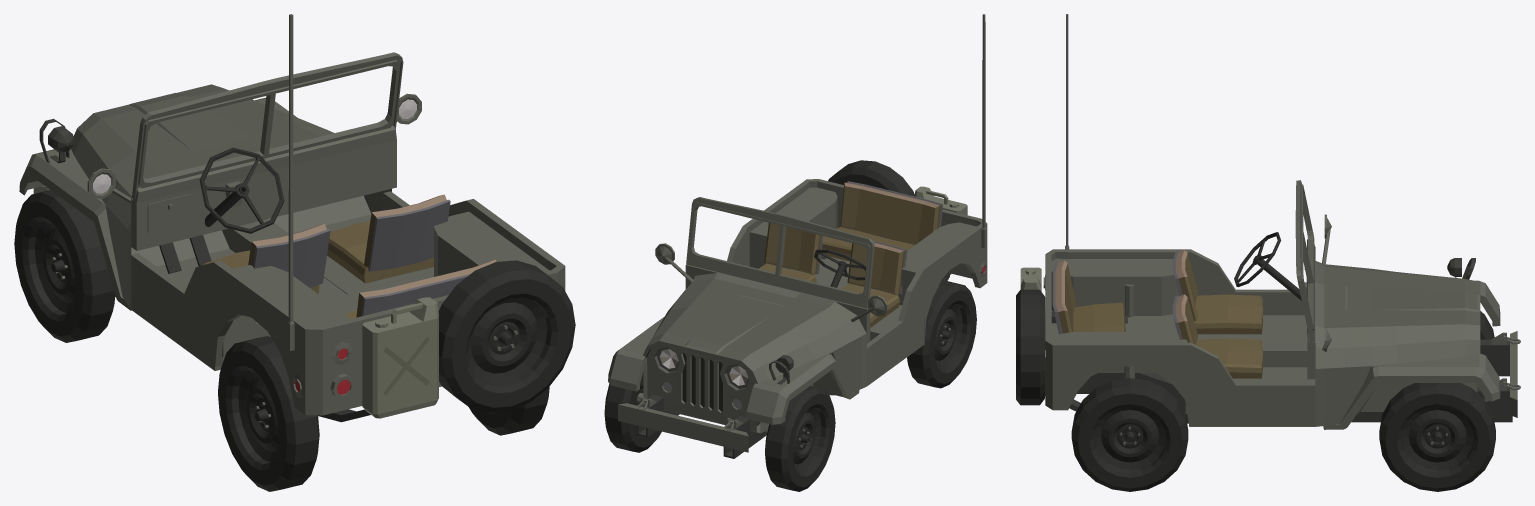
Rendered from car_willys_low.glb.
The picture shows the model from 3 angles, left to right: view 1: azimuth 30°, elevation 25°; view 2: azimuth 150°, elevation 25°; view 3: azimuth 270°, elevation 25°; orthographic projection. The views are drawn at different scales.
Visible parts, largest first — view 1: jeep_Material_0; view 2: jeep_Material_0; view 3: jeep_Material_0.
Boxes of the visible parts, <box> form: jeep_Material_0: <box>14,14,575,491</box>; jeep_Material_0: <box>604,14,987,491</box>; jeep_Material_0: <box>1016,14,1520,491</box>.
Size of the model in its own units: 1.96 by 2.83 by 3.4.
1 material, 1 textured.
